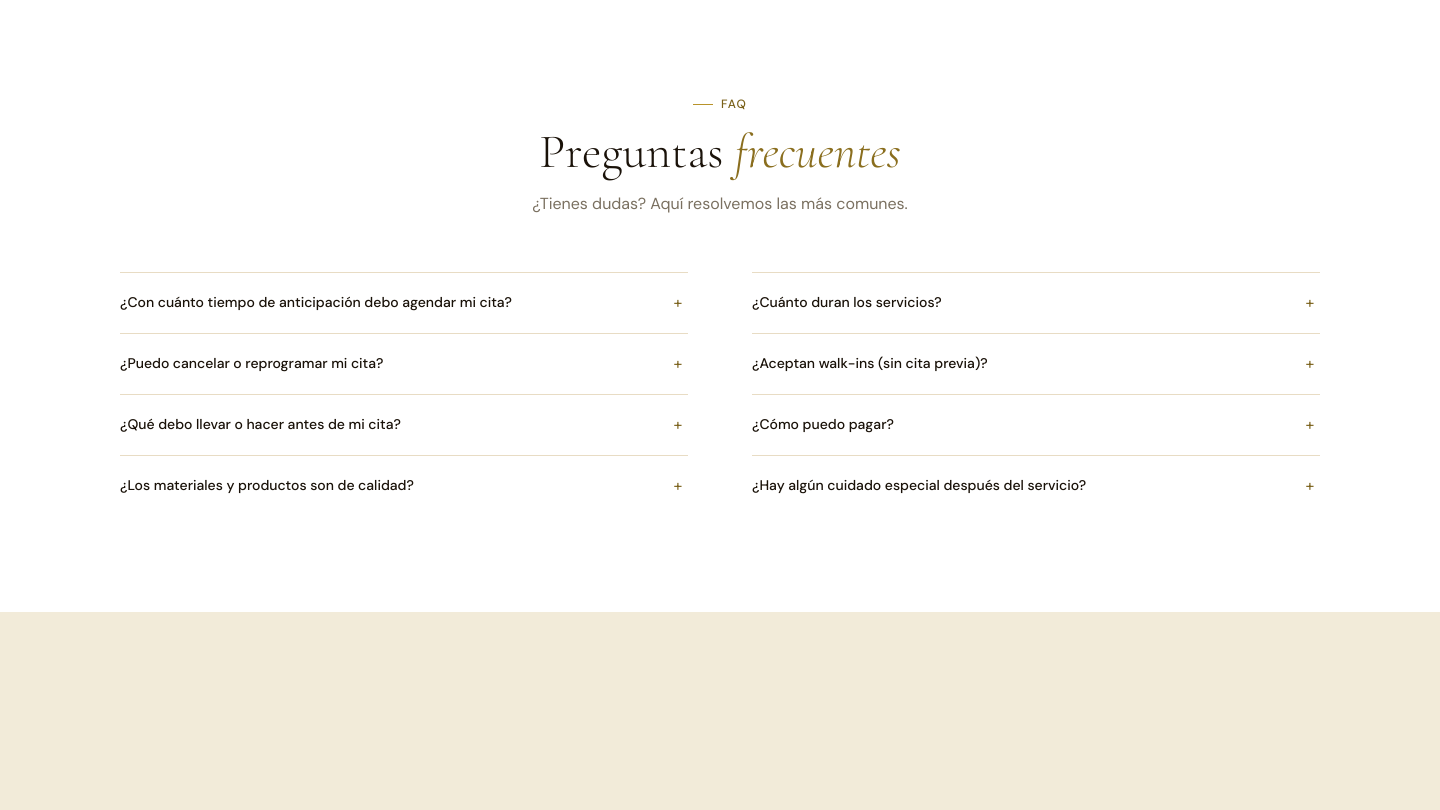
Test: FAQ › opens an item on click and closes it on second click
The image size is (1440, 810).
Click the button "¿Con cuánto tiempo de anticipación debo agendar mi cita? +" at (404, 303), box x1=120 y1=273 x2=688 y2=333
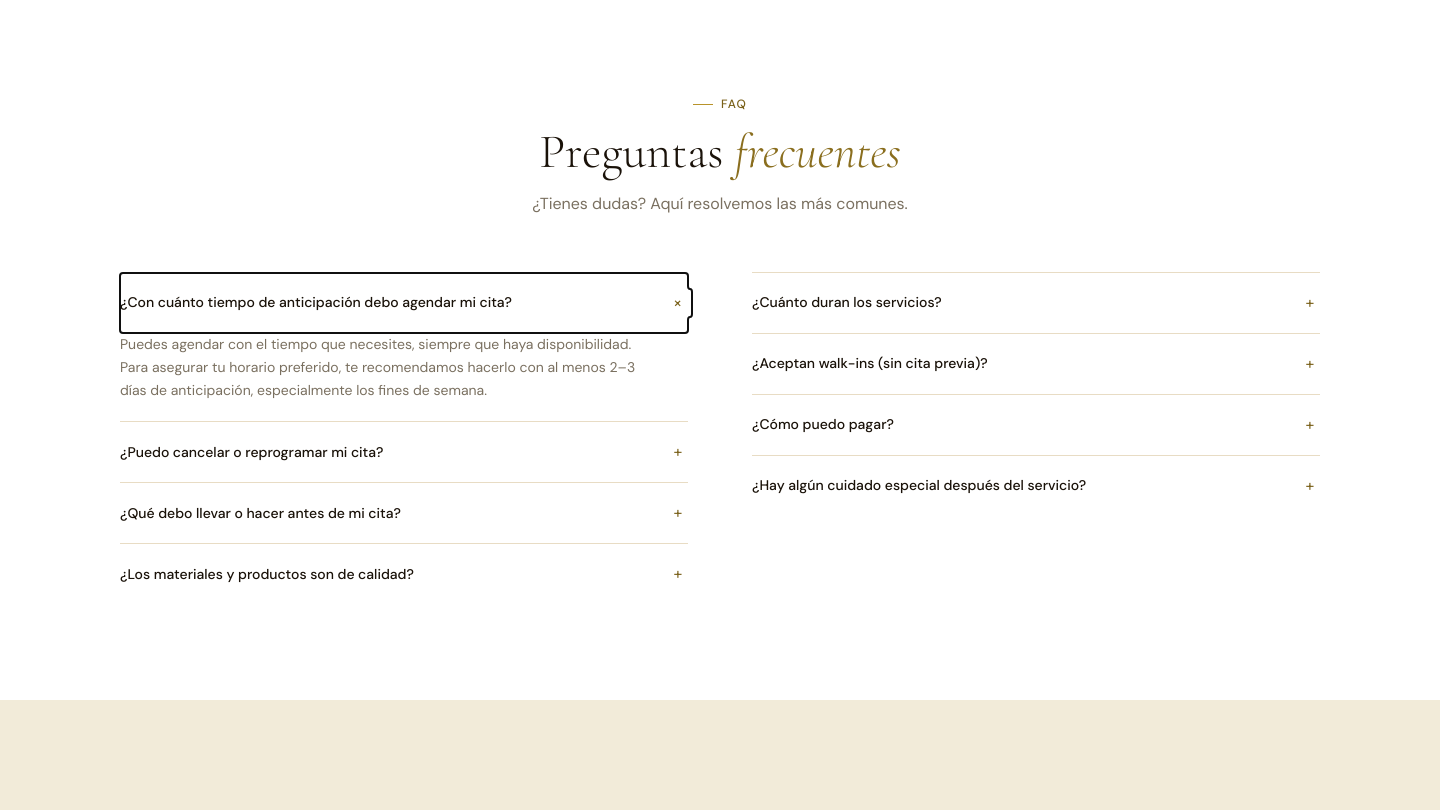
Expected: the button "¿Con cuánto tiempo de anticipación debo agendar mi cita? +" is expanded
Click the button "¿Con cuánto tiempo de anticipación debo agendar mi cita? +" at (404, 303), box x1=120 y1=273 x2=688 y2=333
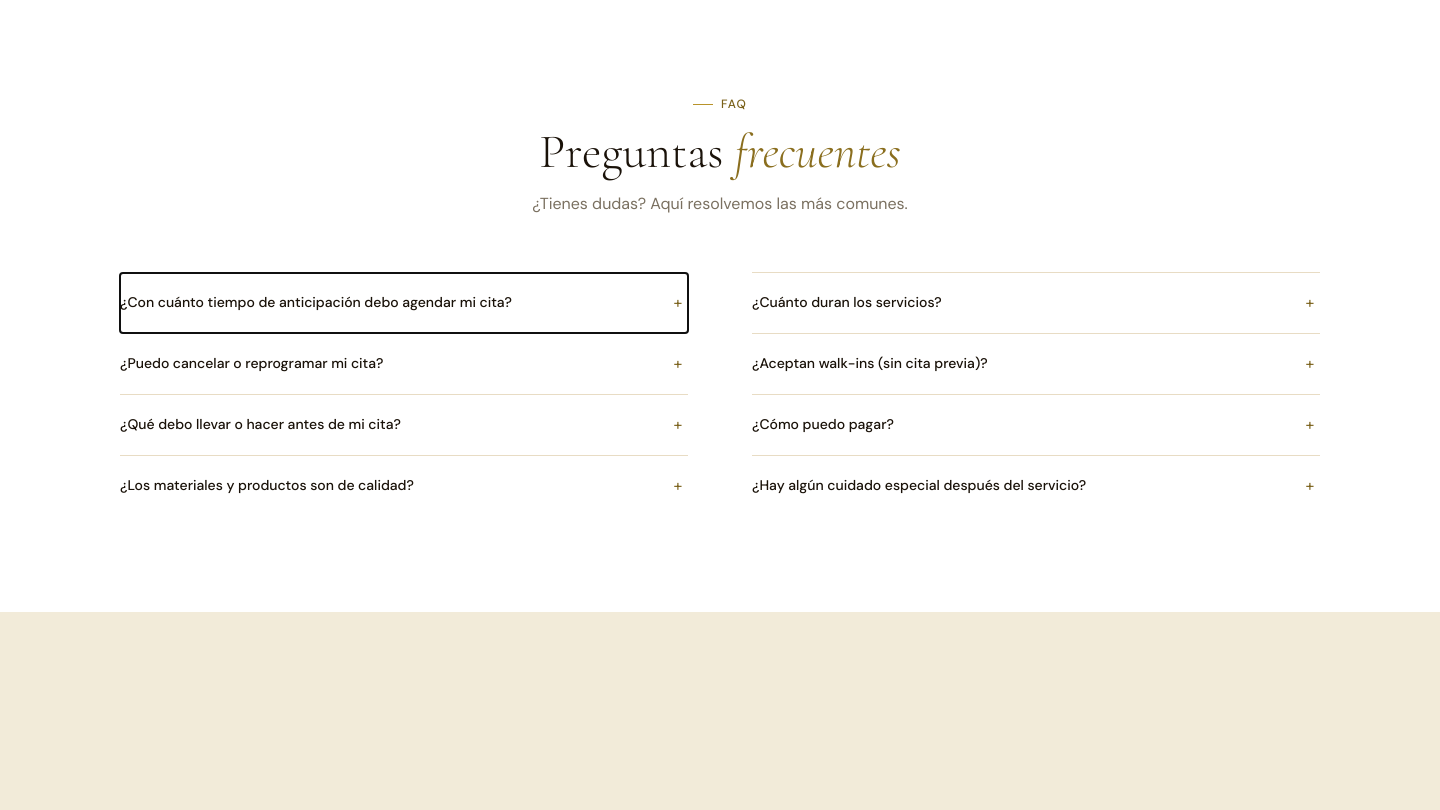
Expected: the button "¿Con cuánto tiempo de anticipación debo agendar mi cita? +" is collapsed, x1=120 y1=273 x2=688 y2=333
